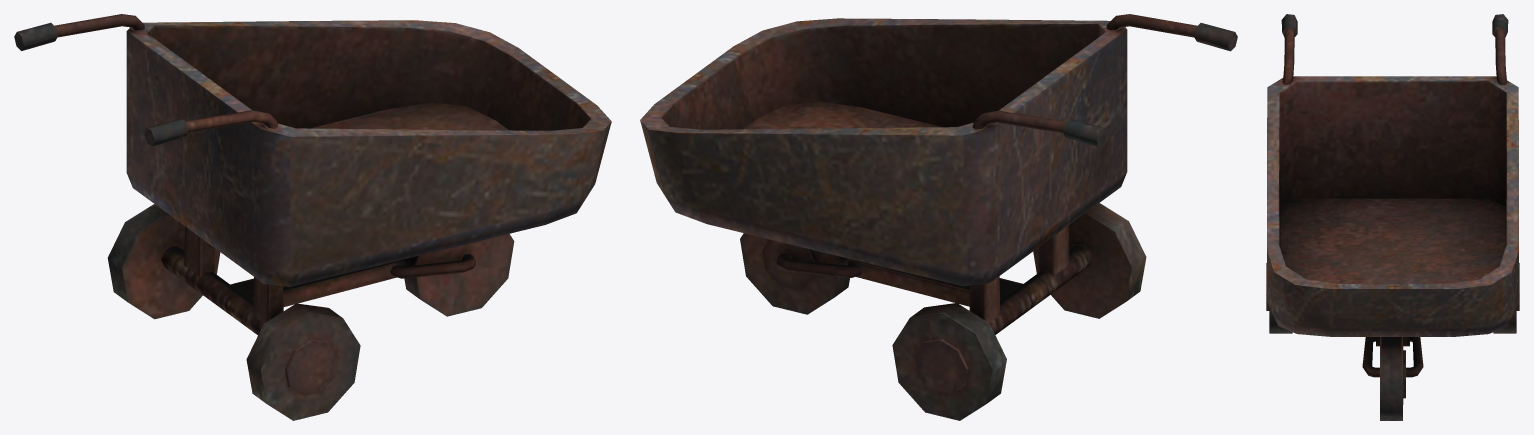
The model's file is IndustrialCart.FBX.
3 views of the same model, side by side, from view 1: azimuth 30°, elevation 25°; view 2: azimuth 150°, elevation 25°; view 3: azimuth 270°, elevation 25° (orthographic). The views are drawn at different scales.
Parts seen in each view (by area): view 1: IndustrialCart; view 2: IndustrialCart; view 3: IndustrialCart.
Part boxes in pixels (<box>): IndustrialCart: <box>14,14,611,420</box>; IndustrialCart: <box>640,14,1237,420</box>; IndustrialCart: <box>1266,14,1519,420</box>.
Size of the model in its own units: 116 by 73.99 by 66.62.
